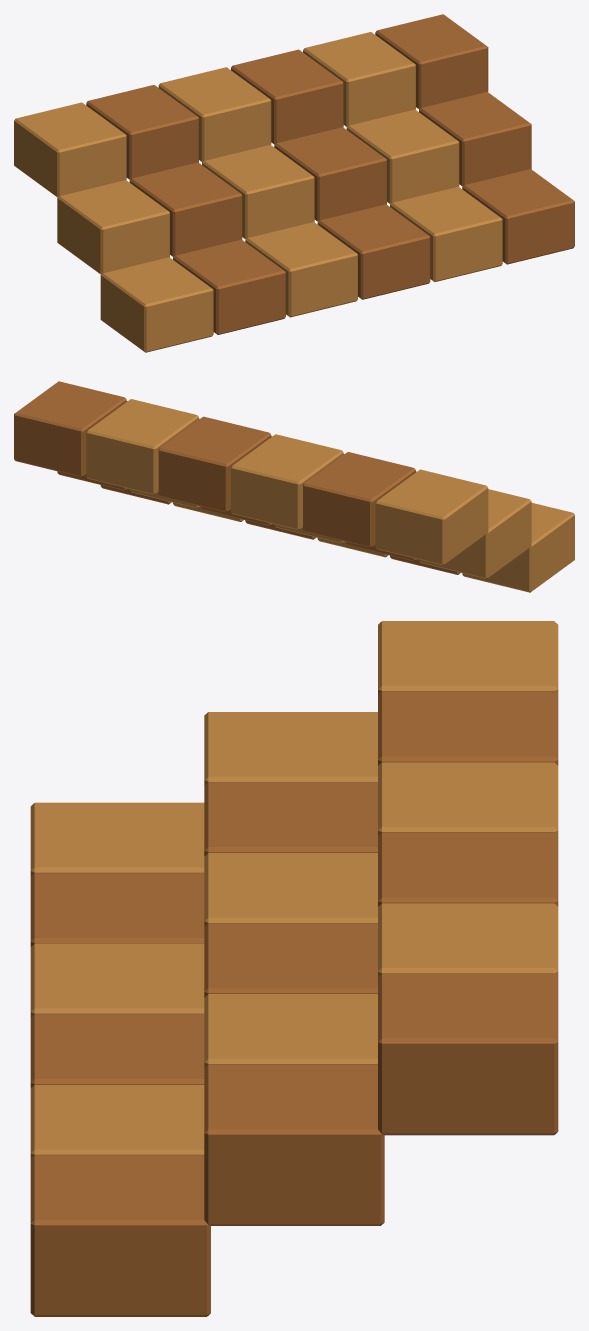
File: entry_steps.glb
3 views of the same model, one above another, from view 1: azimuth 30°, elevation 25°; view 2: azimuth 150°, elevation 25°; view 3: azimuth 270°, elevation 25° (orthographic). The views are drawn at different scales.
Visible parts, largest first — view 1: entry_steps__body__oak3, entry_steps__body__oak2; view 2: entry_steps__body__oak3, entry_steps__body__oak2; view 3: entry_steps__body__oak2, entry_steps__body__oak3.
Boxes of the visible parts, box(x1,y1,x2,y2) form: entry_steps__body__oak3: box(14, 32, 502, 352); entry_steps__body__oak2: box(86, 14, 574, 334); entry_steps__body__oak3: box(86, 399, 574, 592); entry_steps__body__oak2: box(14, 381, 460, 574); entry_steps__body__oak2: box(30, 691, 558, 1316); entry_steps__body__oak3: box(30, 621, 558, 1158).
Bounding box in the file's own units: 1.49 × 0.46 × 0.79.
